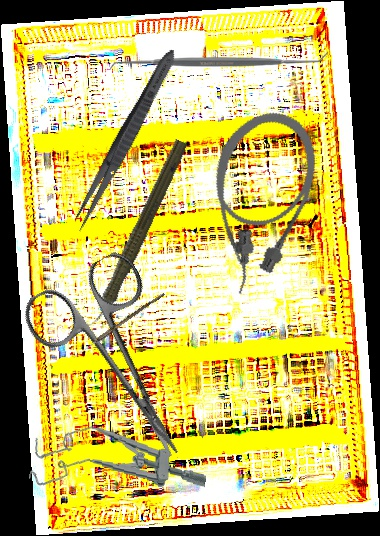Cannula: (179, 97, 333, 306)
Dressing Forceps: (68, 45, 182, 235)
Handpiece: (80, 135, 191, 336)
Iris Scissors: (16, 246, 224, 487)
Spatula Surgical: (110, 50, 328, 73)
Speculum: (28, 421, 210, 501)
Surgical Spoon: (72, 290, 165, 361)
